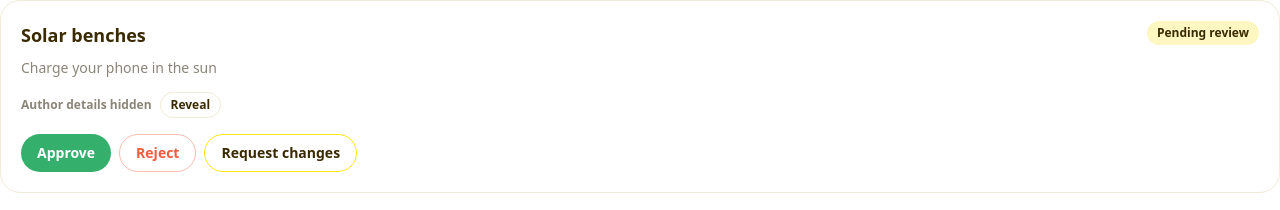
Scenario: ModerationItem › hides an anonymous author's email until reveal
Check: the text "ada@example.com" is not shown
Click the button "Reveal": (190, 105) [160,92,221,118]
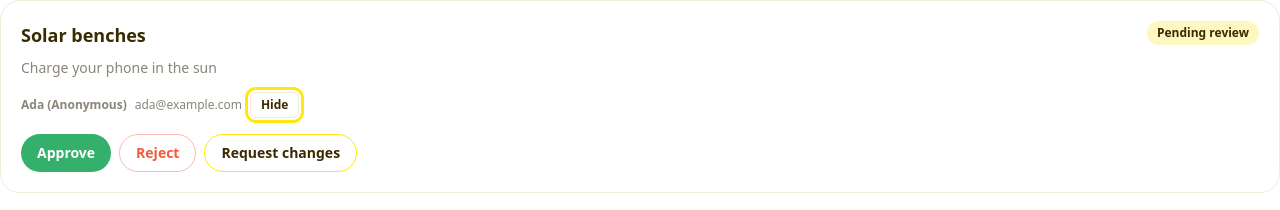
Check: the text "ada@example.com" is shown, box [135,96,242,113]
